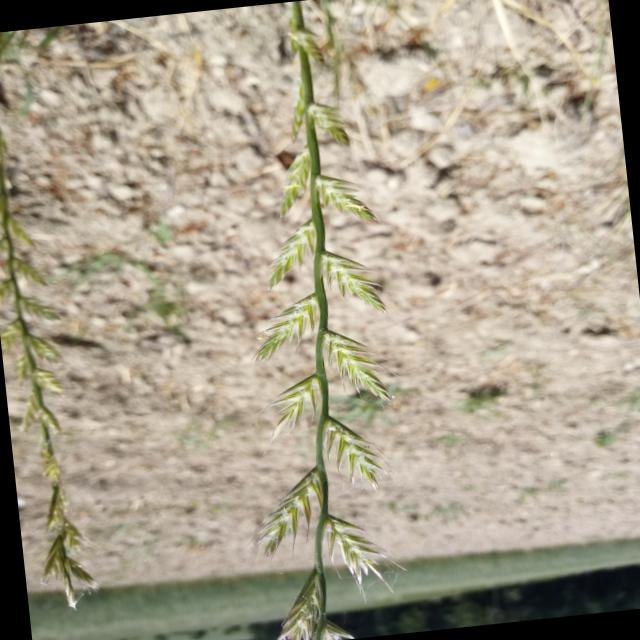Lolium: (194, 0, 428, 640), (0, 99, 113, 614)
